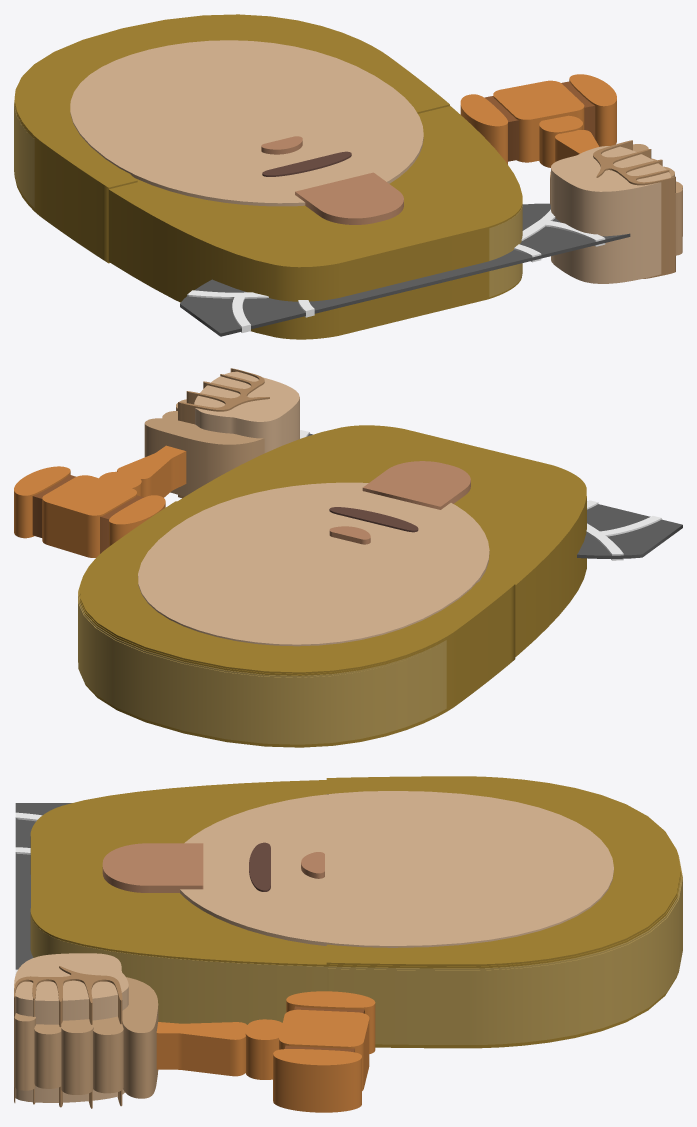
Rendered from emoji_u1f469_1f3fc_200d_2696.glb.
The picture shows the model from 3 angles, top to bottom: view 1: azimuth 30°, elevation 25°; view 2: azimuth 150°, elevation 25°; view 3: azimuth 270°, elevation 25°; orthographic projection. The views are drawn at different scales.
Parts seen in each view (by area): view 1: emoji_u1f469_1f3fc_200d_2696; view 2: emoji_u1f469_1f3fc_200d_2696; view 3: emoji_u1f469_1f3fc_200d_2696.
Boxes of the visible parts, x1,y1,x2,y2 form: emoji_u1f469_1f3fc_200d_2696: (14, 14, 682, 339); emoji_u1f469_1f3fc_200d_2696: (14, 368, 682, 747); emoji_u1f469_1f3fc_200d_2696: (14, 776, 682, 1112).
Bounding box in the file's own units: 0.0334 × 0.0058 × 0.0333.
